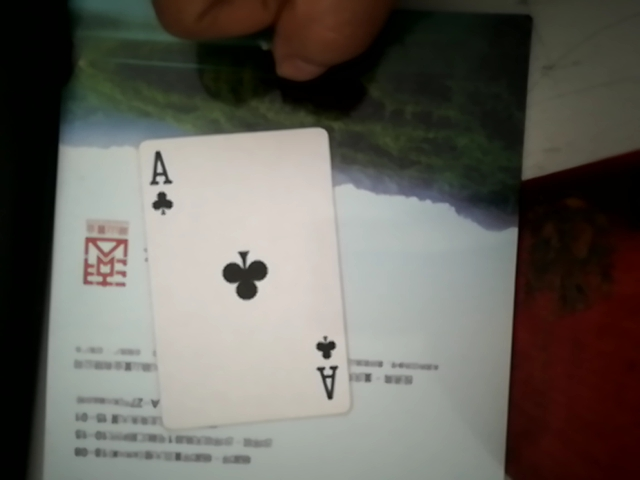mh a: (137, 119, 349, 421)
